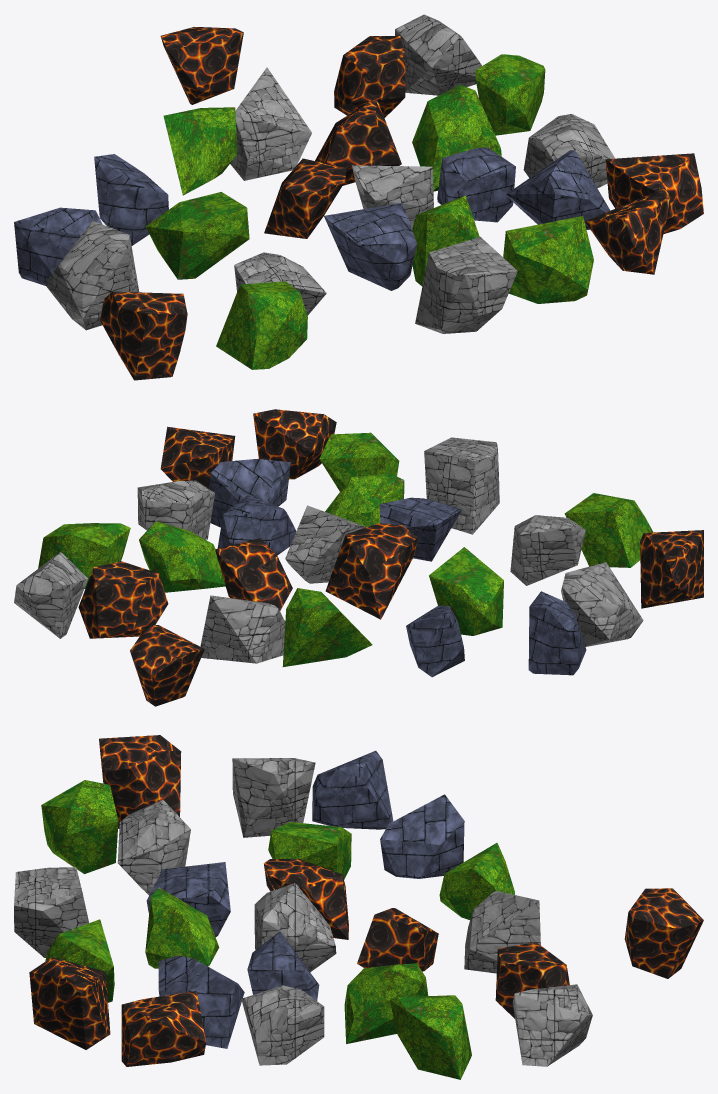
Rendered from CombinedRock.fbx.
The picture shows the model from 3 angles, top to bottom: view 1: azimuth 30°, elevation 25°; view 2: azimuth 150°, elevation 25°; view 3: azimuth 270°, elevation 25°; orthographic projection. The views are drawn at different scales.
Parts seen in each view (by area): view 1: CombinedRock; view 2: CombinedRock; view 3: CombinedRock.
Boxes of the visible parts, x1,y1,x2,y2 form: CombinedRock: (14, 14, 703, 380); CombinedRock: (14, 409, 703, 706); CombinedRock: (14, 735, 703, 1079).
Size of the model in its own units: 7.88 by 0.9952 by 7.98.
